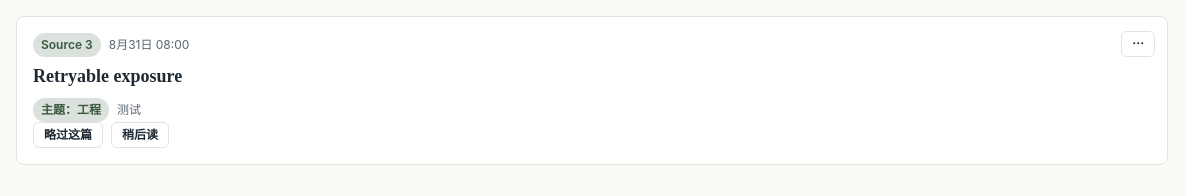
Test: ExploreArticleCard exposure tracking › keeps the menu action independent from the title navigation action
The width and height of the screenshot is (1185, 196).
Click the button named "Retryable exposure 的更多操作". click: coordinates (1138, 44)
box: [1121, 31, 1155, 57]
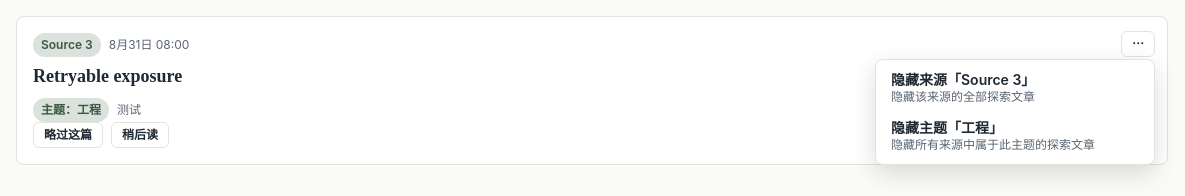
Result: the menu is shown at [875, 59, 1155, 165]
